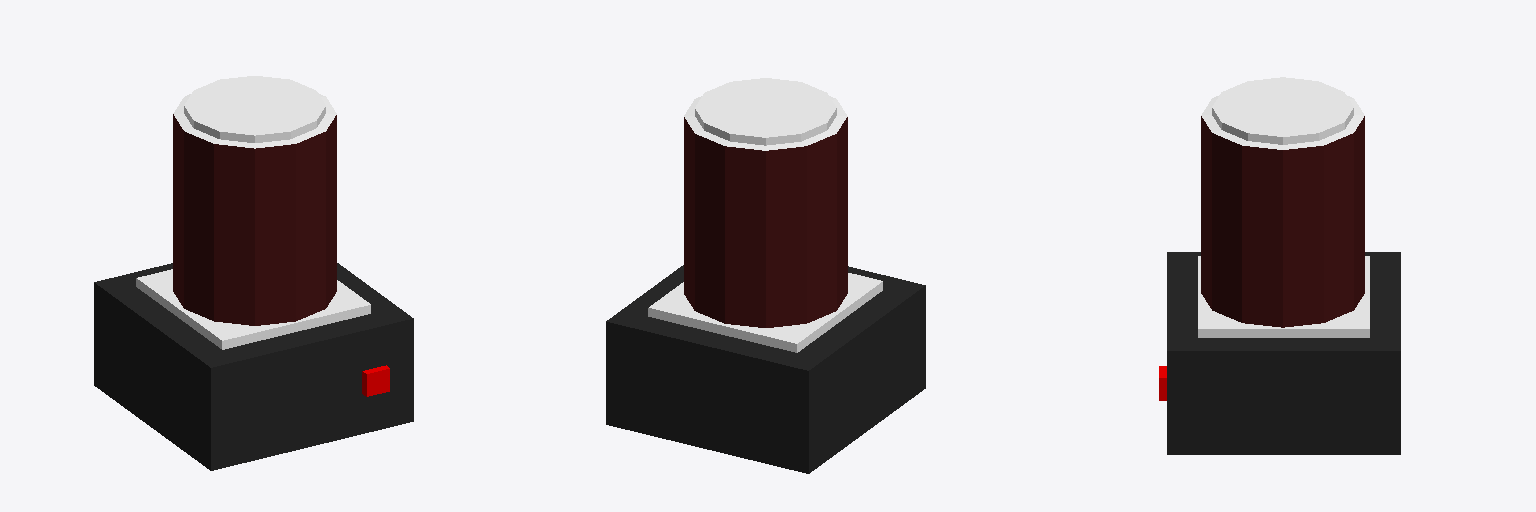
Rendered from Caster.obj.
3 views of the same model, side by side, from view 1: azimuth 30°, elevation 25°; view 2: azimuth 150°, elevation 25°; view 3: azimuth 270°, elevation 25° (orthographic).
Visible parts, largest first — view 1: Caster; view 2: Caster; view 3: Caster.
Part boxes in pixels (x1,y1,x2,y2): Caster: (94,76,413,470); Caster: (606,78,925,473); Caster: (1159,77,1400,454).
Size of the model in its own units: 0.5 by 0.7028 by 0.5179.